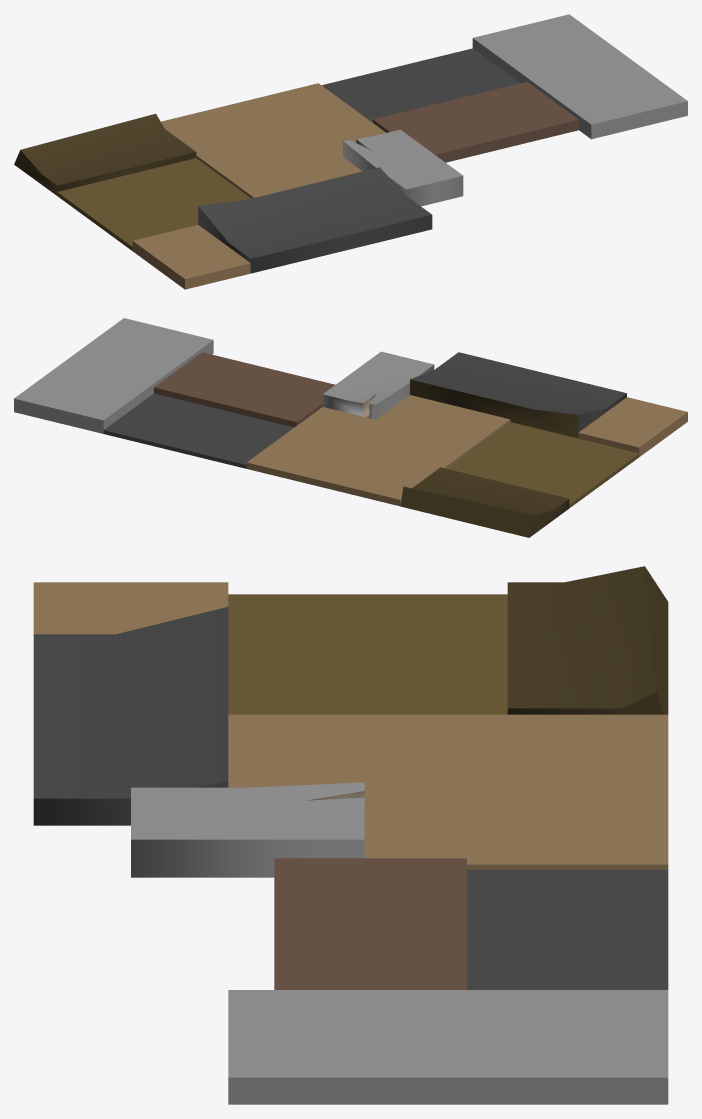
The model's file is Fondo-A.obj.
3 renders of one model, top to bottom at view 1: azimuth 30°, elevation 25°; view 2: azimuth 150°, elevation 25°; view 3: azimuth 270°, elevation 25°, orthographic. The views are drawn at different scales.
Visible parts, largest first — view 1: Fondo-A_Plane.009; view 2: Fondo-A_Plane.009; view 3: Fondo-A_Plane.009.
Boxes of the visible parts, x1,y1,x2,y2 form: Fondo-A_Plane.009: [14, 14, 687, 289]; Fondo-A_Plane.009: [14, 318, 687, 537]; Fondo-A_Plane.009: [33, 566, 668, 1104].
Size of the model in its own units: 2 by 0.1018 by 1.07.
